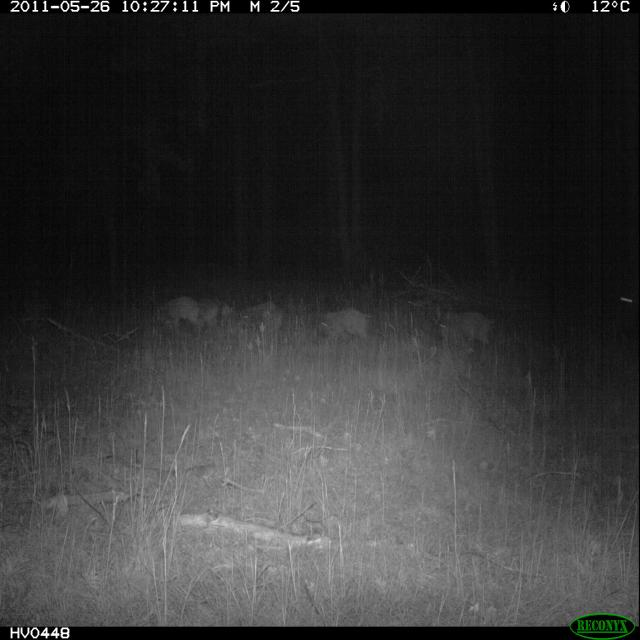boar: (315, 293, 404, 367), (145, 287, 209, 341), (443, 301, 501, 351)
